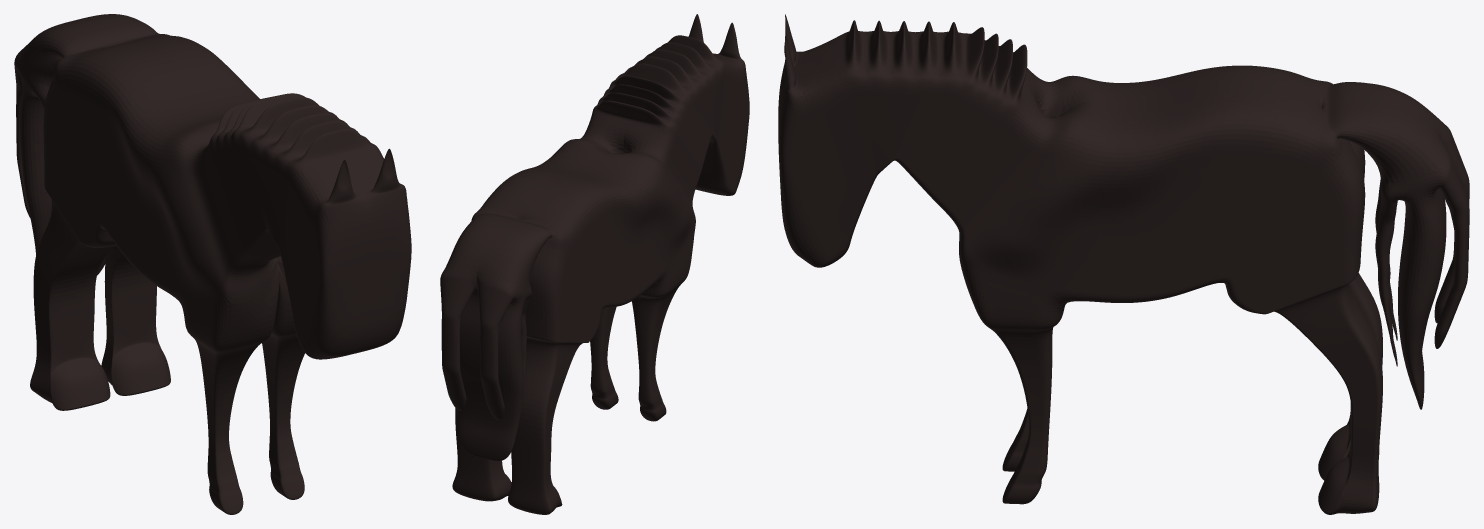
Rendered from caballo.obj.
3 renders of one model, left to right at view 1: azimuth 30°, elevation 25°; view 2: azimuth 150°, elevation 25°; view 3: azimuth 270°, elevation 25°, orthographic. The views are drawn at different scales.
Parts seen in each view (by area): view 1: caballo; view 2: caballo; view 3: caballo.
Boxes of the visible parts, x1,y1,x2,y2 form: caballo: (14,14,411,514); caballo: (440,14,749,514); caballo: (778,14,1469,514).
Size of the model in its own units: 0.3614 by 1.05 by 1.42.
Materials: 1 (1 with a texture image).
